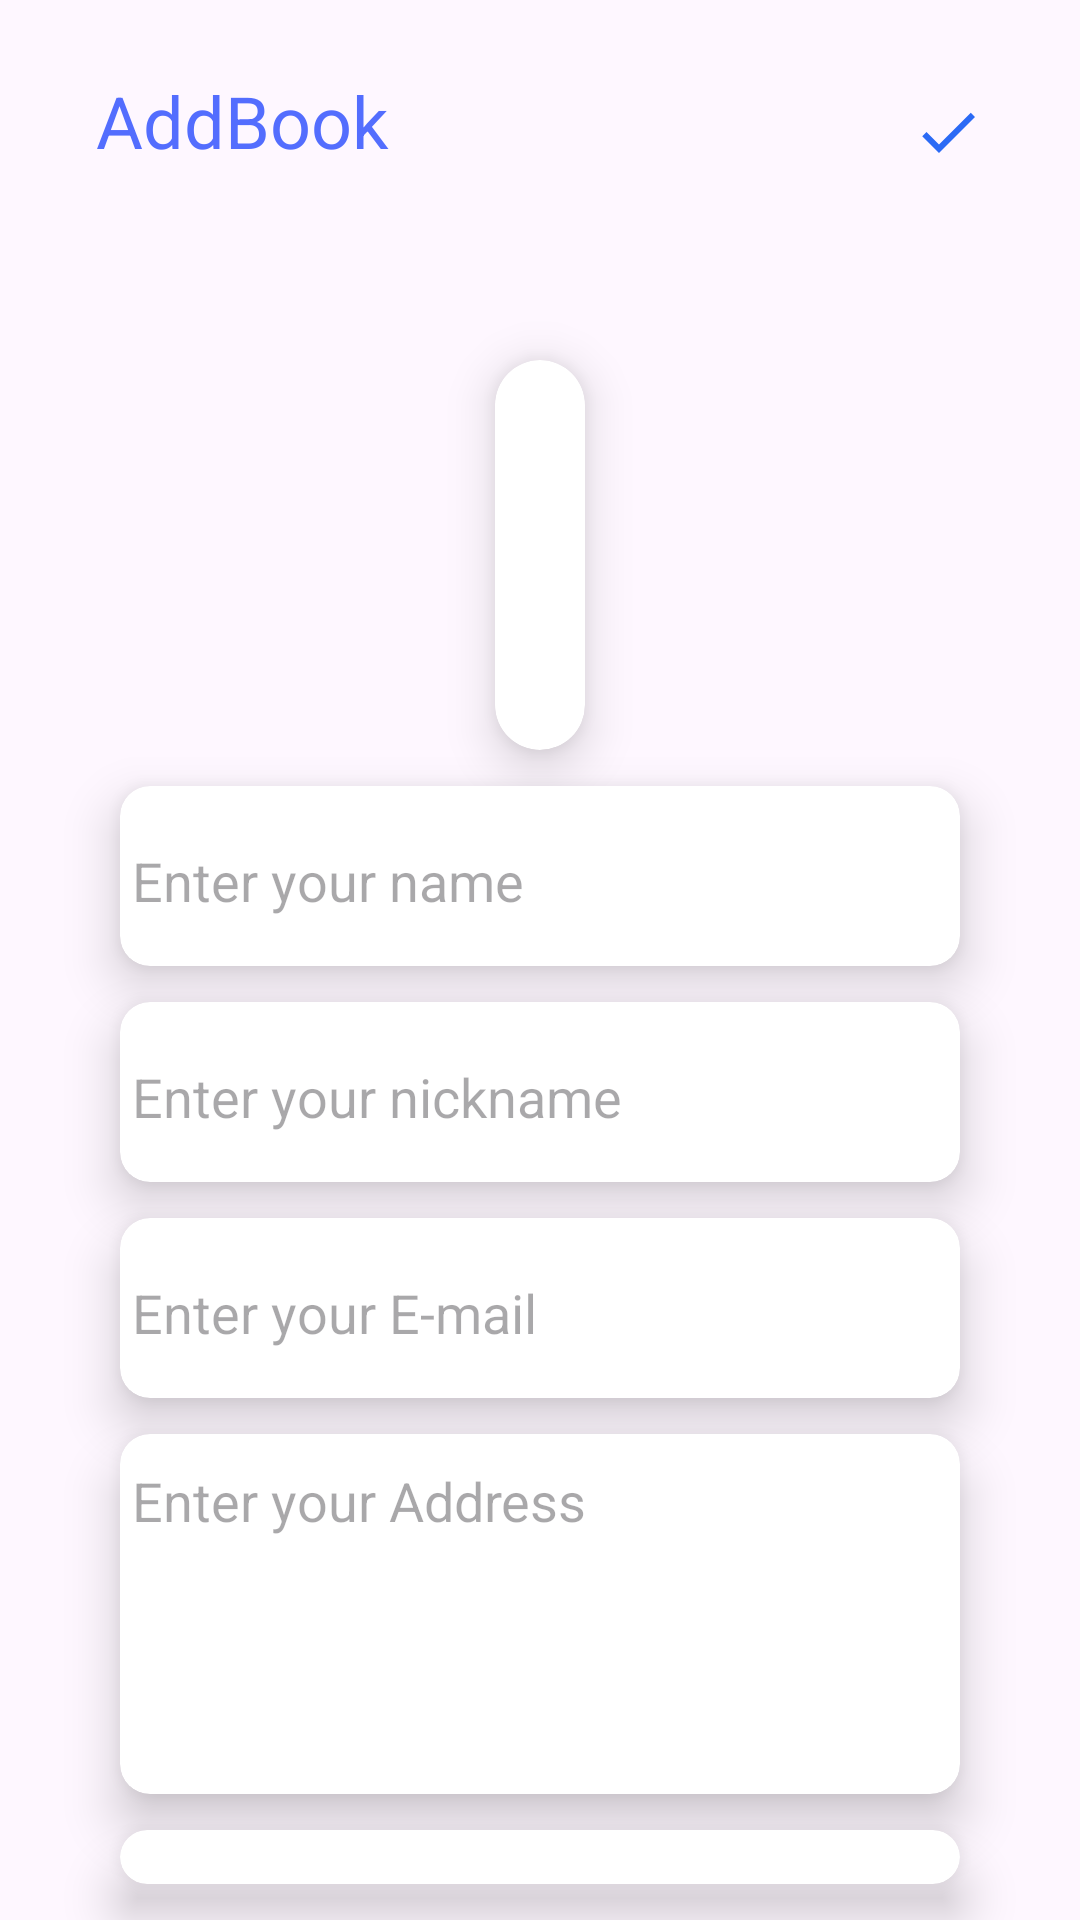

Where to tap for icons on this 1080 x 1920 app screen, as (x=x, y=y):
check: (x=948, y=133)
